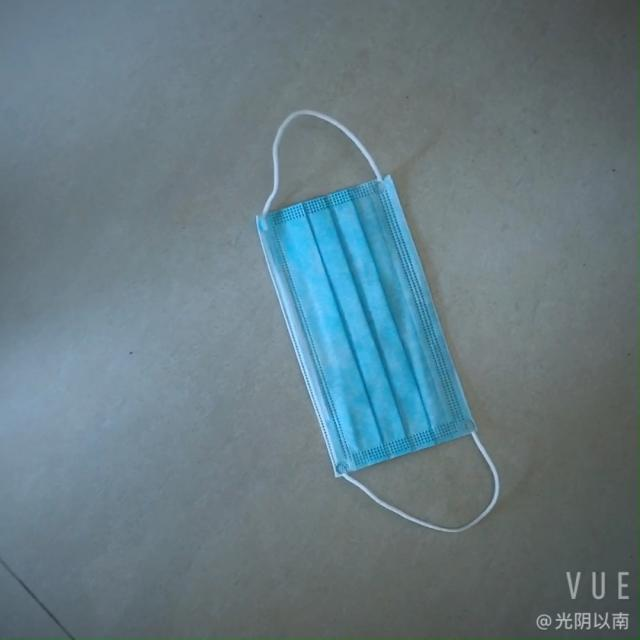non-organic waste: (250, 167, 478, 489)
